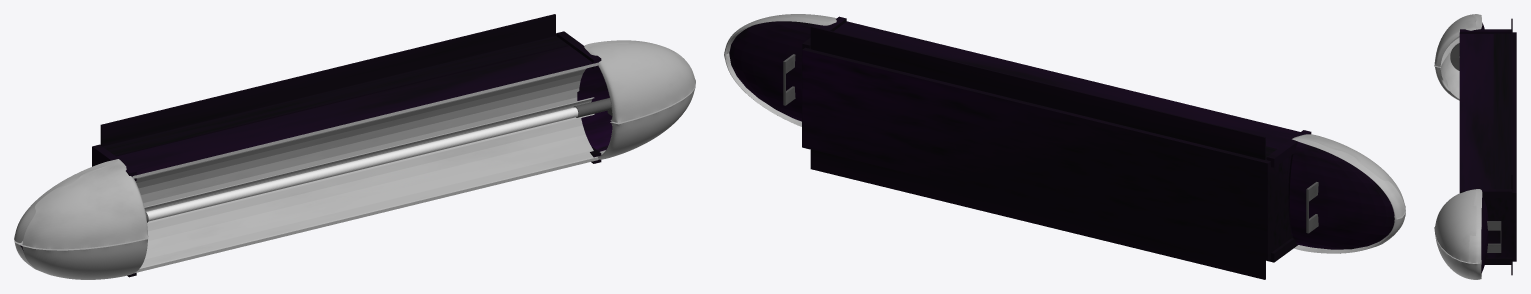
Rendered from LightbridgeEmitter.fbx.
The picture shows the model from 3 angles, left to right: view 1: azimuth 30°, elevation 25°; view 2: azimuth 150°, elevation 25°; view 3: azimuth 270°, elevation 25°; orthographic projection. The views are drawn at different scales.
Parts seen in each view (by area): view 1: Cube, Cube.003, Sphere.001, Sphere.002, Cylinder.001, Cylinder, Sphere.003, Cube.001, Cylinder.002; view 2: Cube, Cube.003, Cube.002, Sphere, Sphere.003, Sphere.001, Sphere.002, Cube.001, Cube.005, Cube.004; view 3: Cube, Sphere.002, Cube.003, Sphere.001, Cube.001, Sphere.003, Cube.004, Cube.005.
Part boxes in pixels (x1,y1,x2,y2): Cube: (92,33,598,273); Cube.003: (100,14,568,156); Sphere.001: (14,159,148,279); Sphere.002: (584,40,695,159); Cylinder.001: (146,107,578,221); Cylinder: (144,97,594,223); Sphere.003: (577,51,612,151); Cube.001: (92,31,601,277); Cylinder.002: (145,98,611,222); Cube: (802,21,1300,260); Cube.003: (810,26,1276,159); Cube.002: (810,149,1265,279); Sphere: (1288,142,1394,249); Sphere.003: (729,21,833,121); Sphere.001: (1292,134,1405,253); Sphere.002: (724,14,836,126); Cube.001: (802,16,1311,262); Cube.005: (1306,182,1318,233); Cube.004: (783,54,795,105); Cube: (1459,32,1516,261); Sphere.002: (1434,189,1482,279); Cube.003: (1493,18,1512,190); Sphere.001: (1434,14,1482,100); Cube.001: (1460,29,1512,264); Sphere.003: (1481,196,1488,273); Cube.004: (1487,221,1501,252); Cube.005: (1450,43,1459,70).
Bounding box in the file's own units: 582 × 117 × 86.63.
